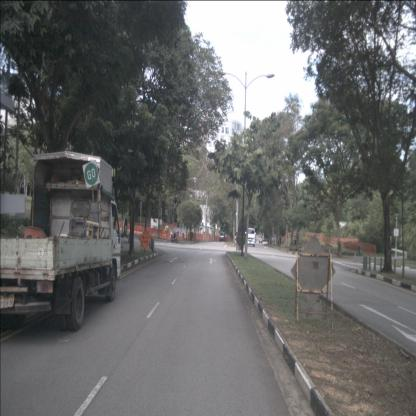movable_object-barrier: (127, 224, 136, 234), (114, 221, 123, 231), (136, 226, 145, 235), (151, 228, 159, 237), (144, 228, 152, 236), (173, 231, 180, 240), (168, 231, 174, 240), (163, 230, 167, 239), (159, 229, 163, 238)
vehicle-car: (246, 228, 255, 247), (219, 234, 226, 242), (258, 238, 262, 245)
vehicle-motorcycle: (289, 238, 301, 252), (170, 232, 178, 244)
vehicle-truck: (0, 151, 121, 332)
